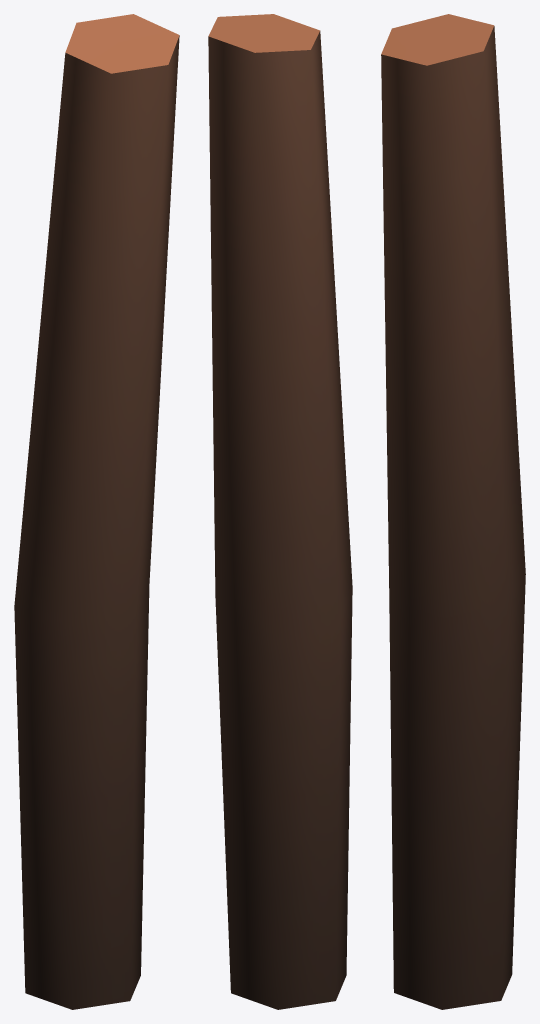
The model's file is Fence_2C_Part_2.fbx.
3 views of the same model, side by side, from view 1: azimuth 30°, elevation 25°; view 2: azimuth 150°, elevation 25°; view 3: azimuth 270°, elevation 25° (orthographic). The views are drawn at different scales.
Parts seen in each view (by area): view 1: Fence_2C_Part_2; view 2: Fence_2C_Part_2; view 3: Fence_2C_Part_2.
Boxes of the visible parts, box(x1,y1,x2,y2) form: Fence_2C_Part_2: box(14, 14, 179, 1009); Fence_2C_Part_2: box(208, 14, 352, 1009); Fence_2C_Part_2: box(381, 14, 525, 1009).
Size of the model in its own units: 20.92 by 131 by 17.8.
